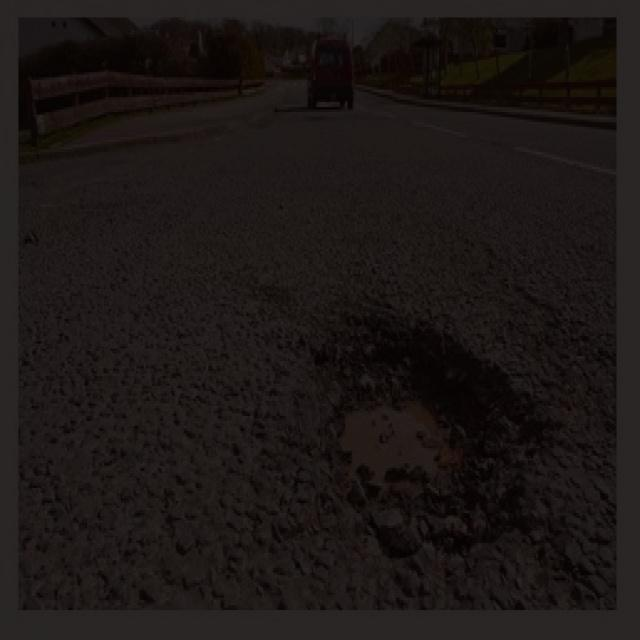Pothole: (278, 296, 546, 576)
